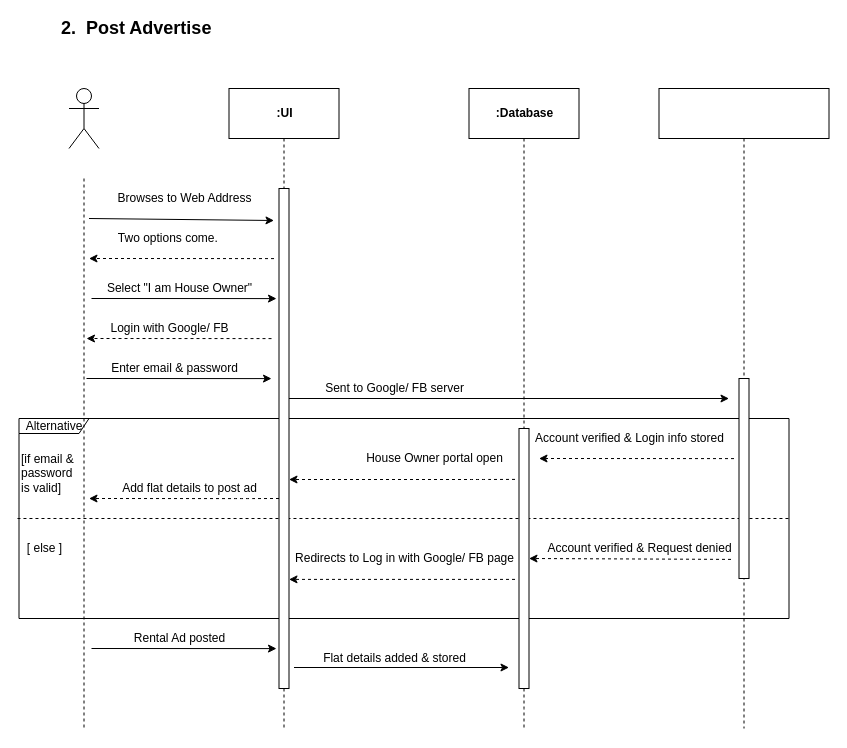
Image size: 847x748. Some labels were removed from this diagram. Here are the shapes that lost their labels. From the top down, the box of each, then its label:
(68, 88, 99, 148): House Owner
(658, 88, 829, 138): :GoogleorFacebookServer
